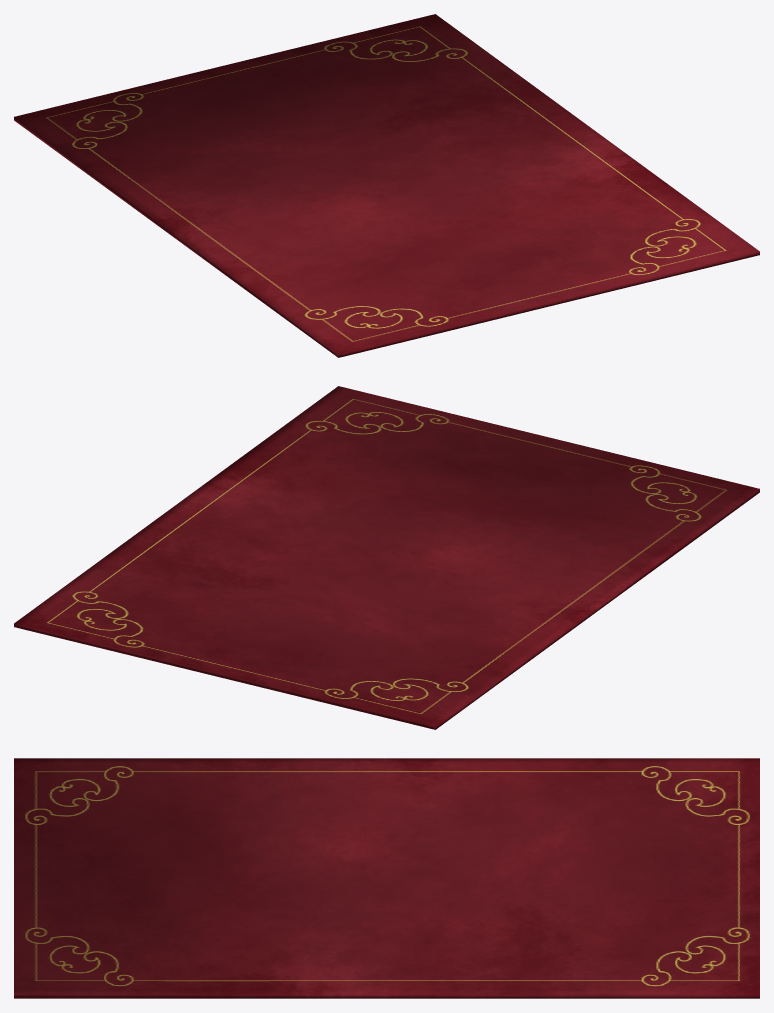
File: Portada.fbx
The picture shows the model from 3 angles, top to bottom: view 1: azimuth 30°, elevation 25°; view 2: azimuth 150°, elevation 25°; view 3: azimuth 270°, elevation 25°; orthographic projection. The views are drawn at different scales.
Parts seen in each view (by area): view 1: Portada; view 2: Portada; view 3: Portada.
Part boxes in pixels (x1,y1,x2,y2): Portada: (14,14,759,357); Portada: (14,386,759,729); Portada: (14,758,759,998).
Size of the model in its own units: 15.04 by 0.1224 by 20.06.
